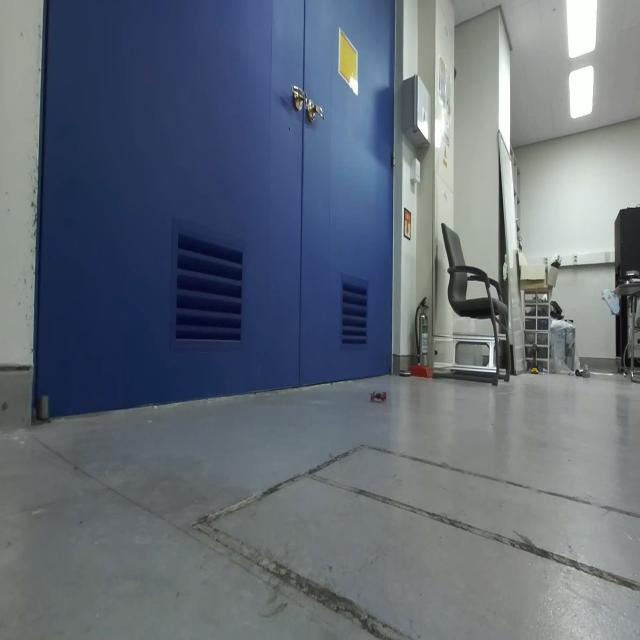crazyflie: (366, 384, 390, 411)
